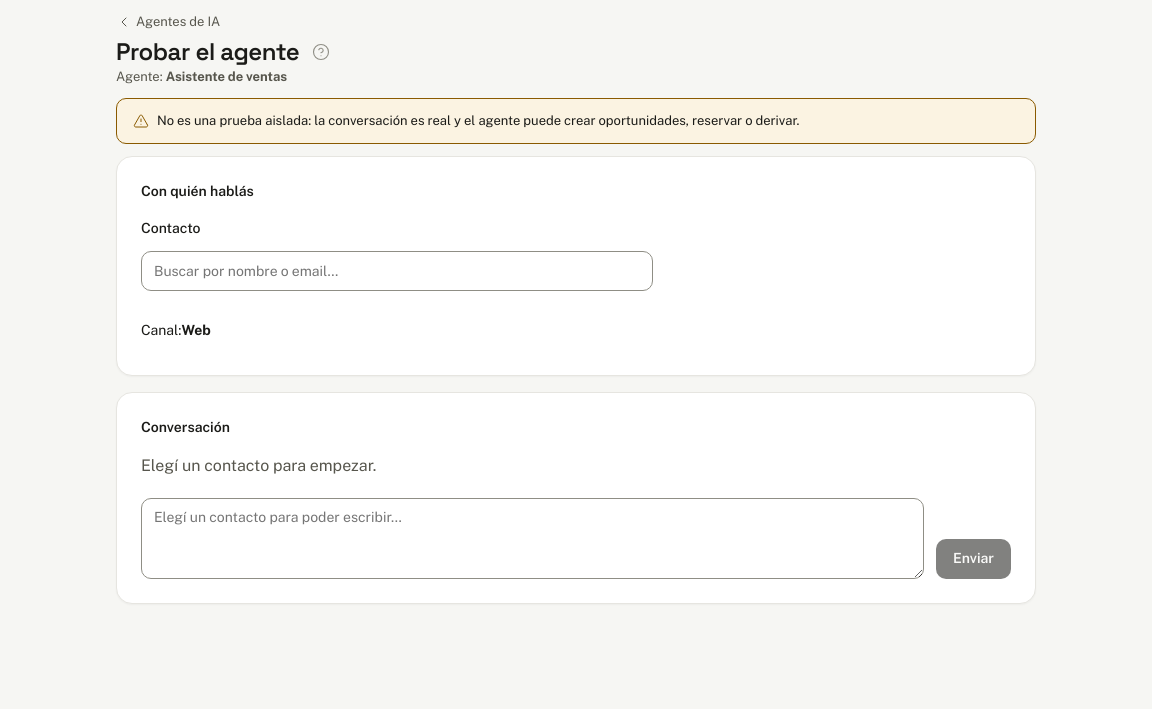
Test: AgentPlaygroundPage — mandar un mensaje › agrega la burbuja del contacto y la del agente
The width and height of the screenshot is (1152, 709).
Expected: the text "No es una prueba aislada" is shown, x1=157 y1=113 x2=800 y2=128
Step 1. Type "Jua" into the field with placeholder "Buscar por nombre o email…" → {"x": 397, "y": 271}, box x1=141 y1=251 x2=653 y2=291
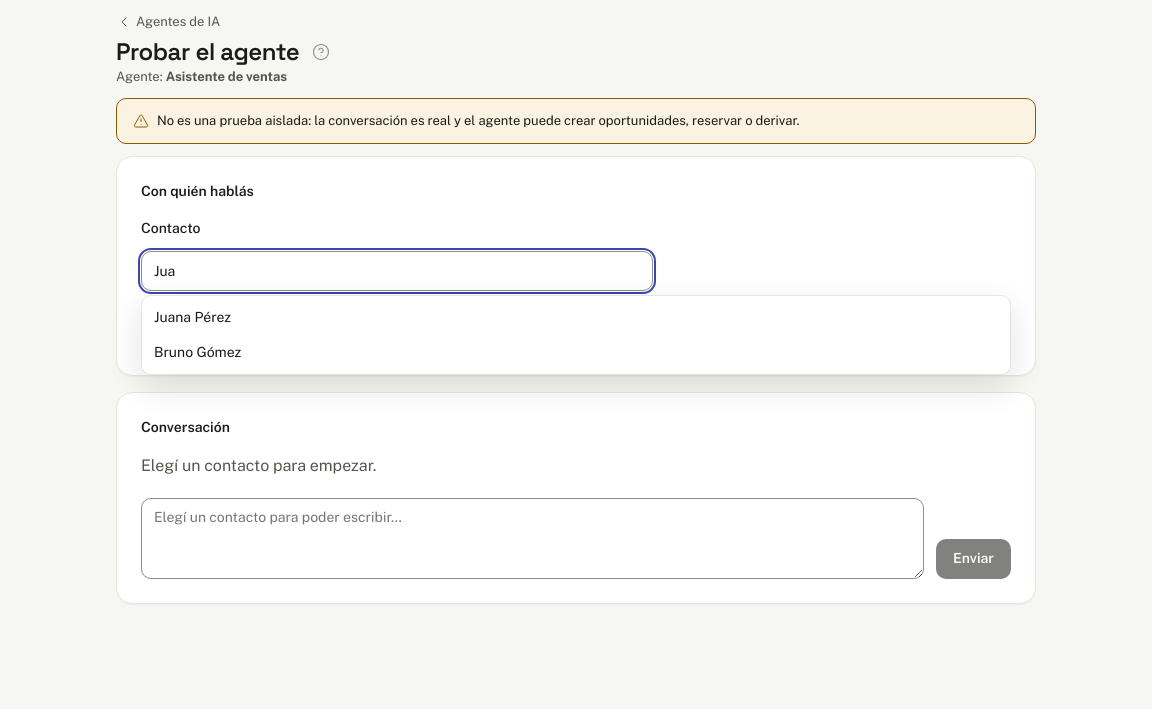
Step 2. Click the button "Juana Pérez" → {"x": 193, "y": 317}, box x1=142 y1=300 x2=1010 y2=335
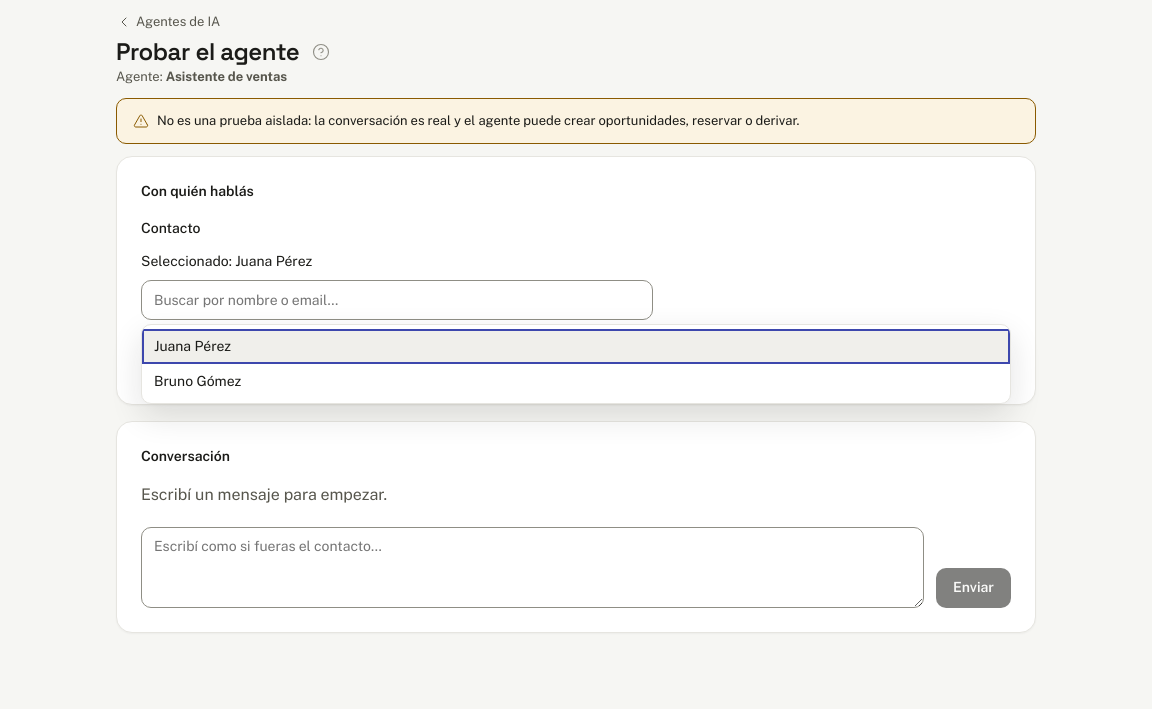
Expected: the text box named "Mensaje del contacto" is enabled
Step 3. Type "hola" into the text box named "Mensaje del contacto" → {"x": 533, "y": 567}, box x1=141 y1=527 x2=924 y2=608
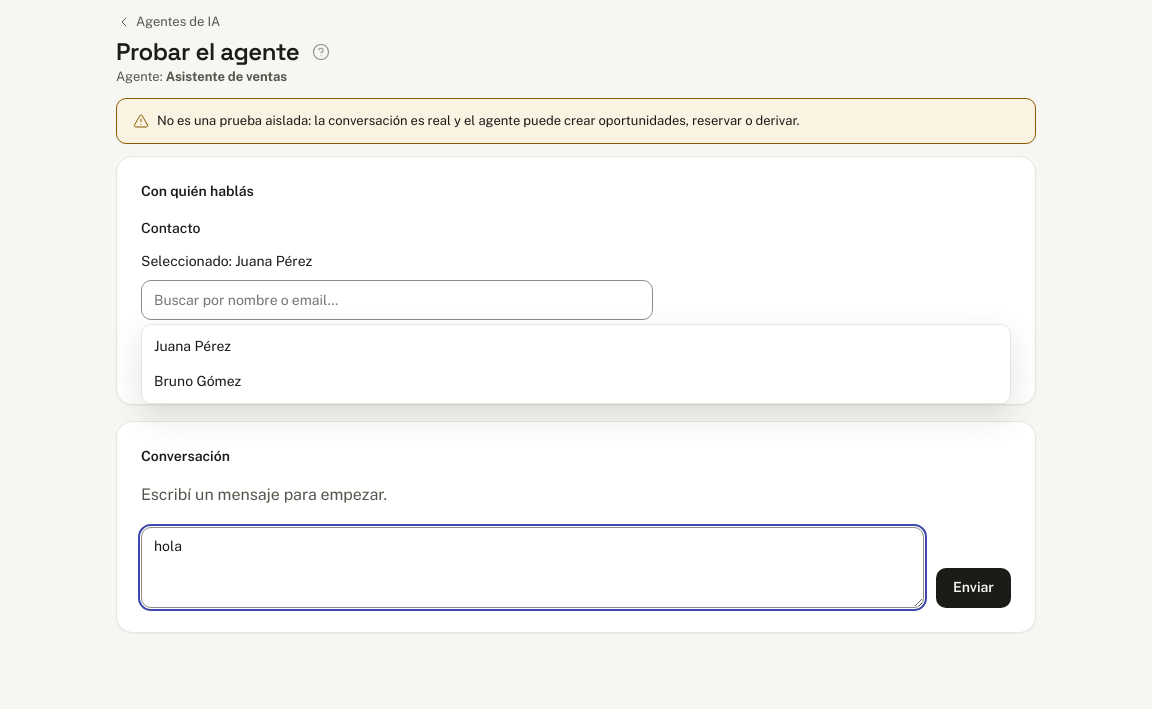
Step 4. Click the button "Enviar" → {"x": 974, "y": 588}, box x1=936 y1=568 x2=1011 y2=608
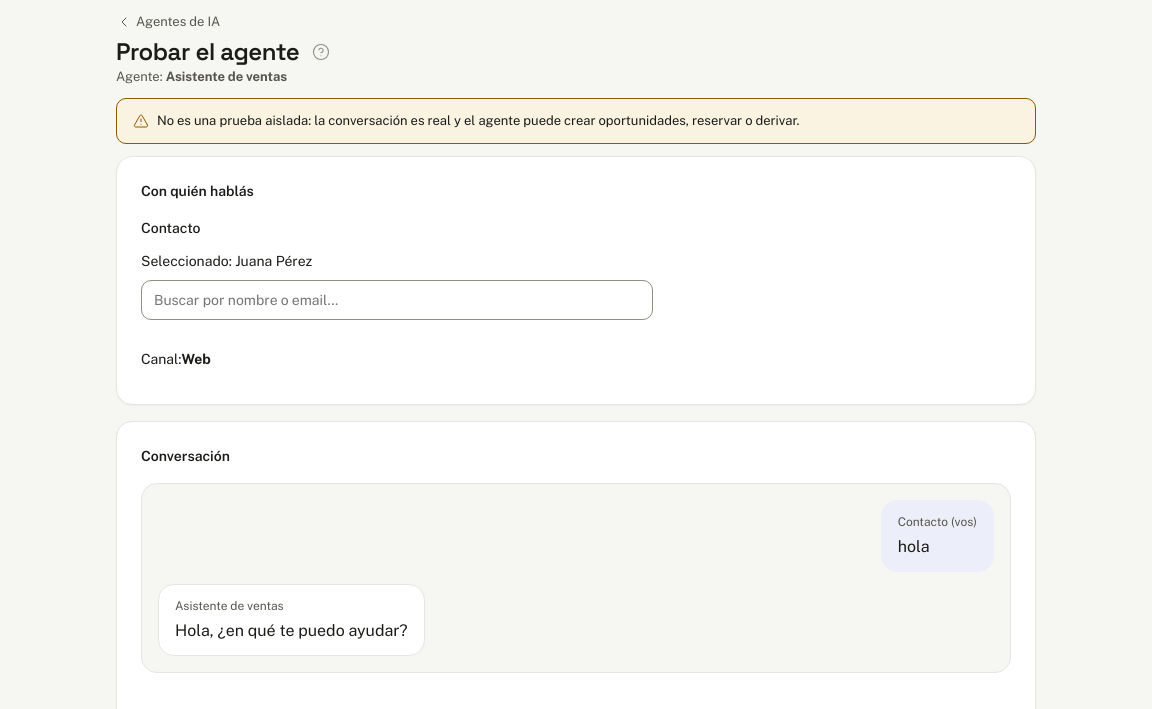
Expected: the text "hola" is shown, x1=898 y1=537 x2=930 y2=556
Expected: the text "Hola, ¿en qué te puedo ayudar?" is shown, x1=175 y1=621 x2=408 y2=640
Expected: the text "Contacto (vos)" is shown, x1=898 y1=513 x2=977 y2=531
